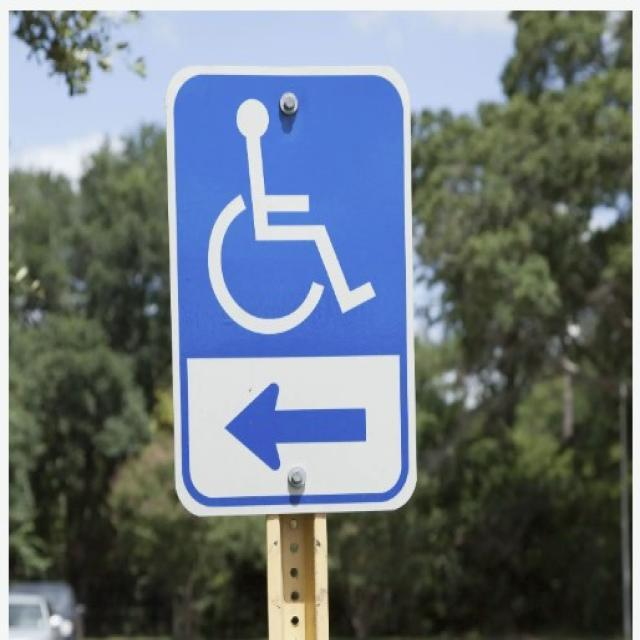symbol_of_access: (166, 64, 417, 516)
